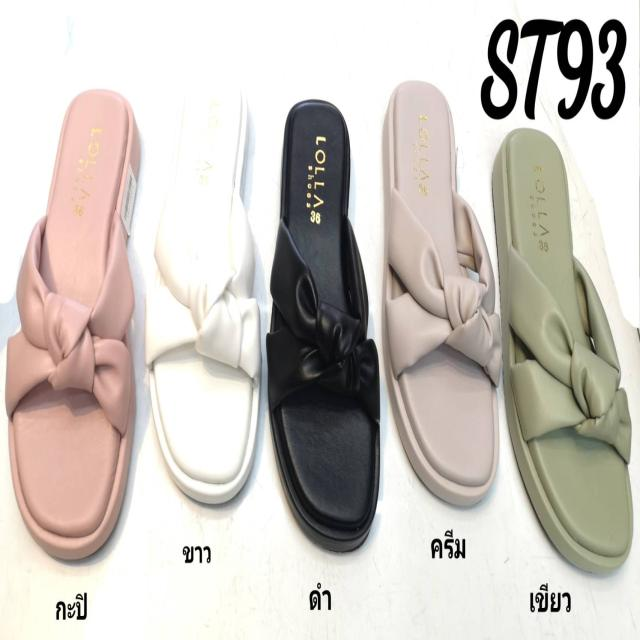black: (261, 102, 386, 547)
cream: (388, 87, 500, 504)
green: (500, 128, 630, 574)
kapi: (7, 95, 139, 560)
white: (145, 82, 263, 508)
